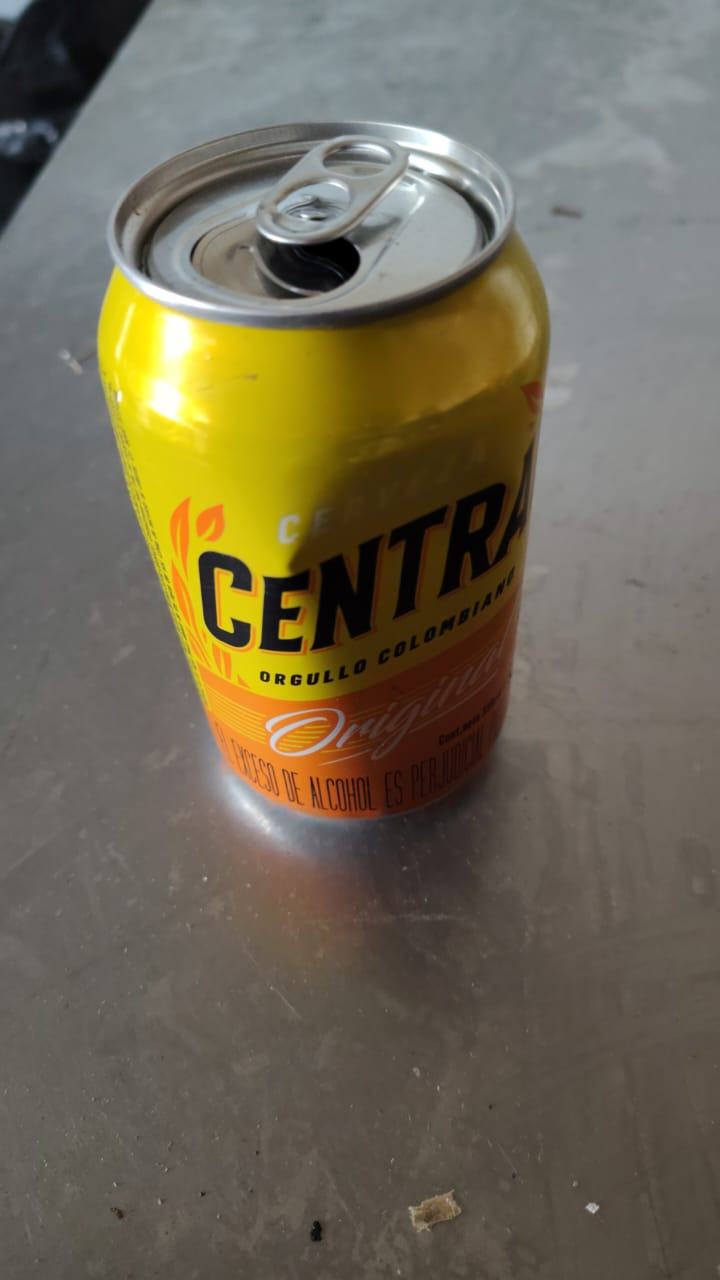Metal: (95, 118, 553, 828)
